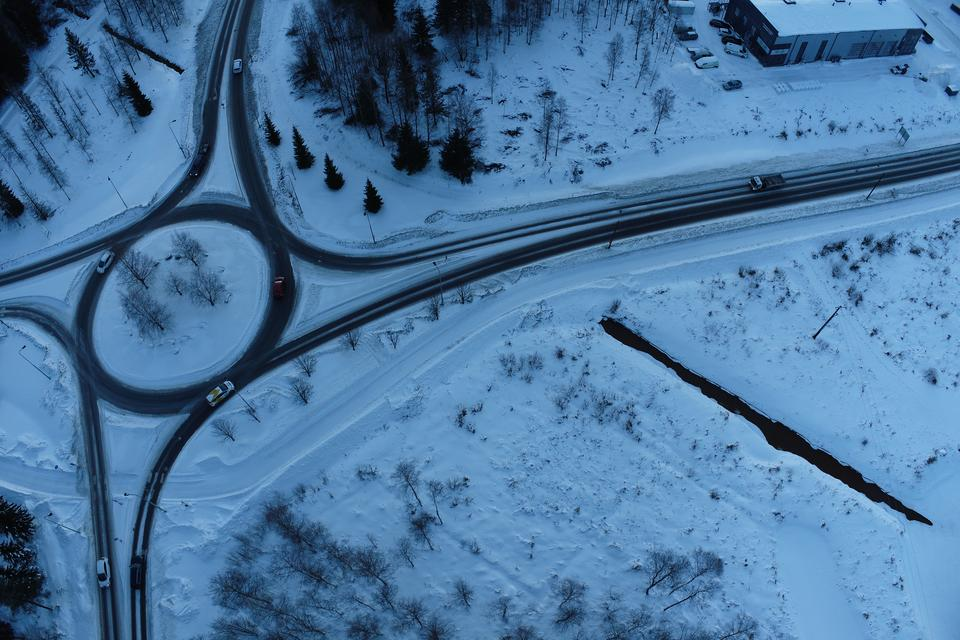roundabout: (52, 177, 327, 455)
